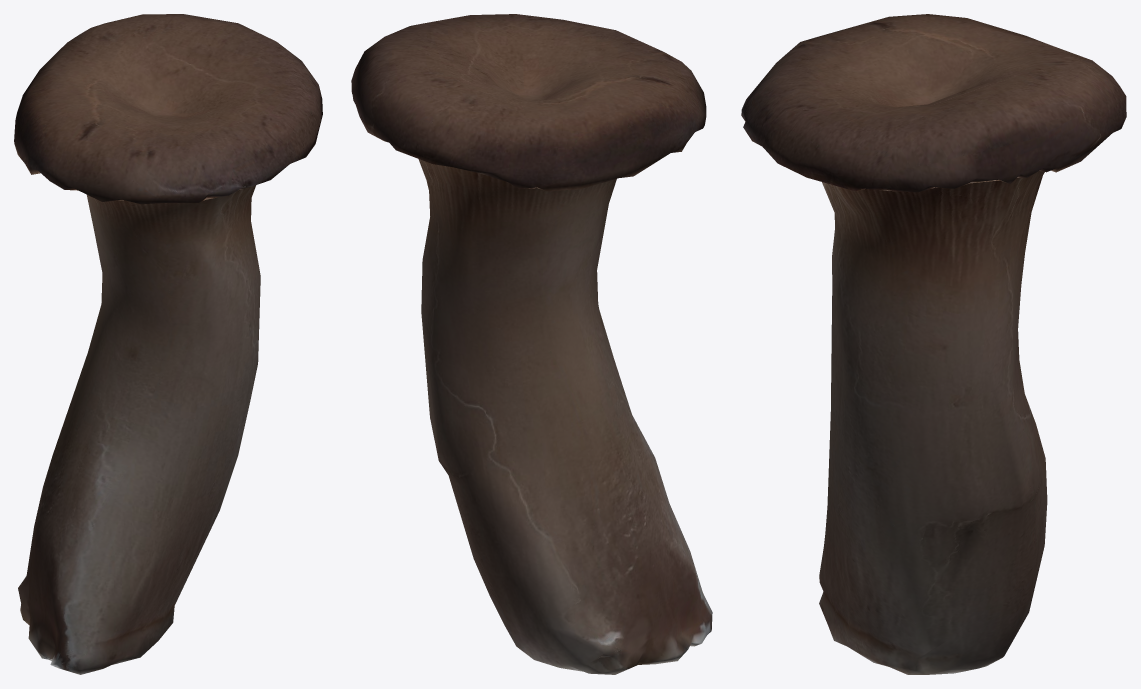
File: trompette-de-la-mort.glb
3 renders of one model, left to right at view 1: azimuth 30°, elevation 25°; view 2: azimuth 150°, elevation 25°; view 3: azimuth 270°, elevation 25°, orthographic. The views are drawn at different scales.
Visible parts, largest first — view 1: mushroom_14; view 2: mushroom_14; view 3: mushroom_14.
Part boxes in pixels (x1,y1,x2,y2): mushroom_14: [14, 14, 322, 674]; mushroom_14: [351, 14, 712, 674]; mushroom_14: [741, 14, 1126, 674].
Bounding box in the file's own units: 3.54 × 6.45 × 3.56.
1 material, 1 textured.
